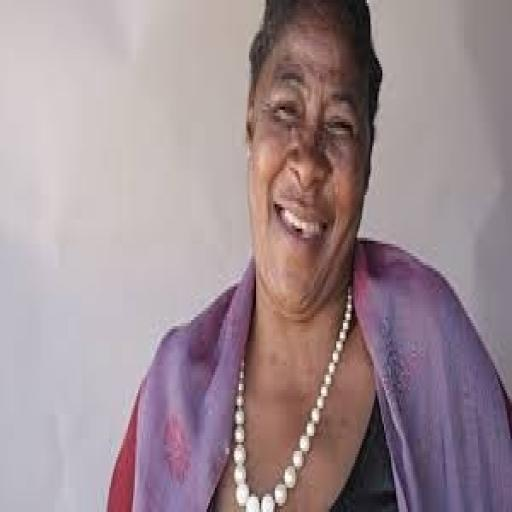laughing: (99, 3, 507, 506)
